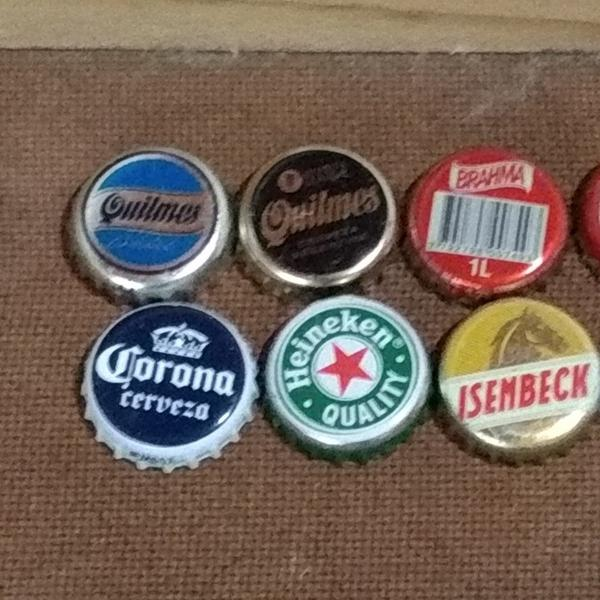corona: (76, 300, 255, 474)
hertog jan: (258, 293, 435, 458)
